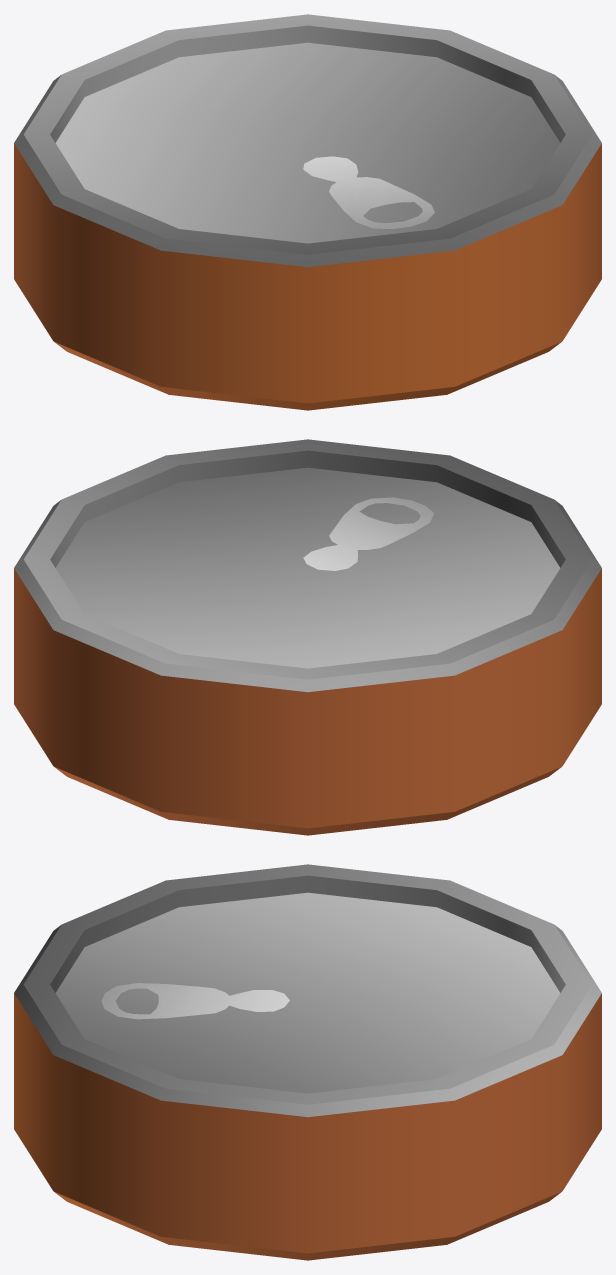
Rendered from Fish Can_2.fbx.
3 renders of one model, top to bottom at view 1: azimuth 30°, elevation 25°; view 2: azimuth 150°, elevation 25°; view 3: azimuth 270°, elevation 25°, orthographic.
Visible parts, largest first — view 1: Fish Can_2, Fish Can_2 Top; view 2: Fish Can_2, Fish Can_2 Top; view 3: Fish Can_2, Fish Can_2 Top.
Part boxes in pixels (<box>): Fish Can_2: <box>14,14,601,410</box>; Fish Can_2 Top: <box>55,42,560,243</box>; Fish Can_2: <box>14,439,601,835</box>; Fish Can_2 Top: <box>55,467,560,668</box>; Fish Can_2: <box>14,864,601,1260</box>; Fish Can_2 Top: <box>55,892,560,1093</box>.
Size of the model in its own units: 0.1131 by 0.0336 by 0.1131.
